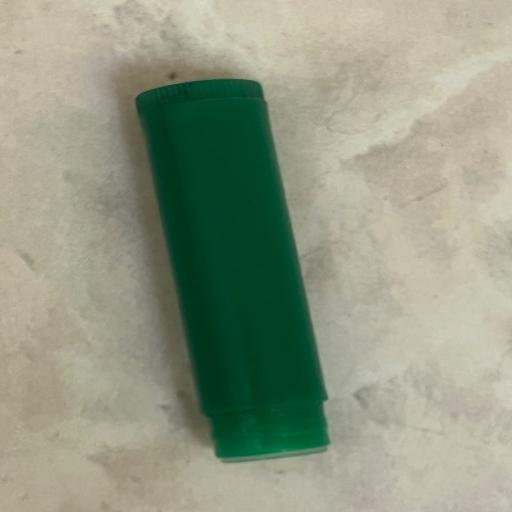HDPE: (80, 49, 417, 483)
